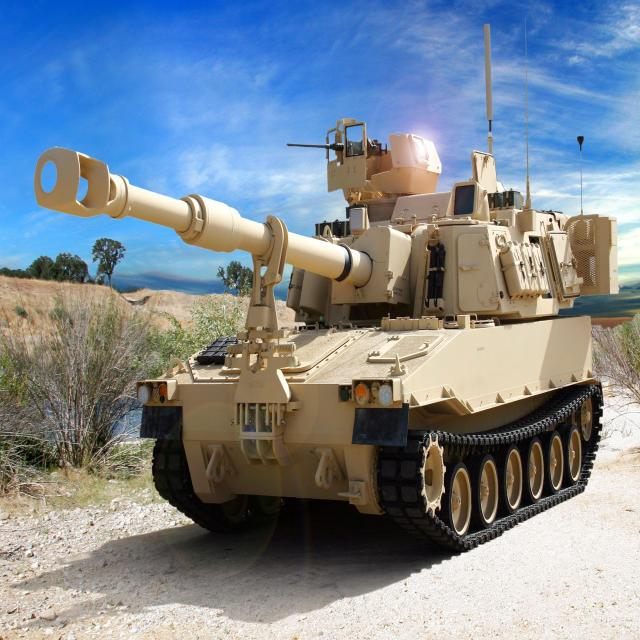Tanks: (32, 51, 624, 585)
